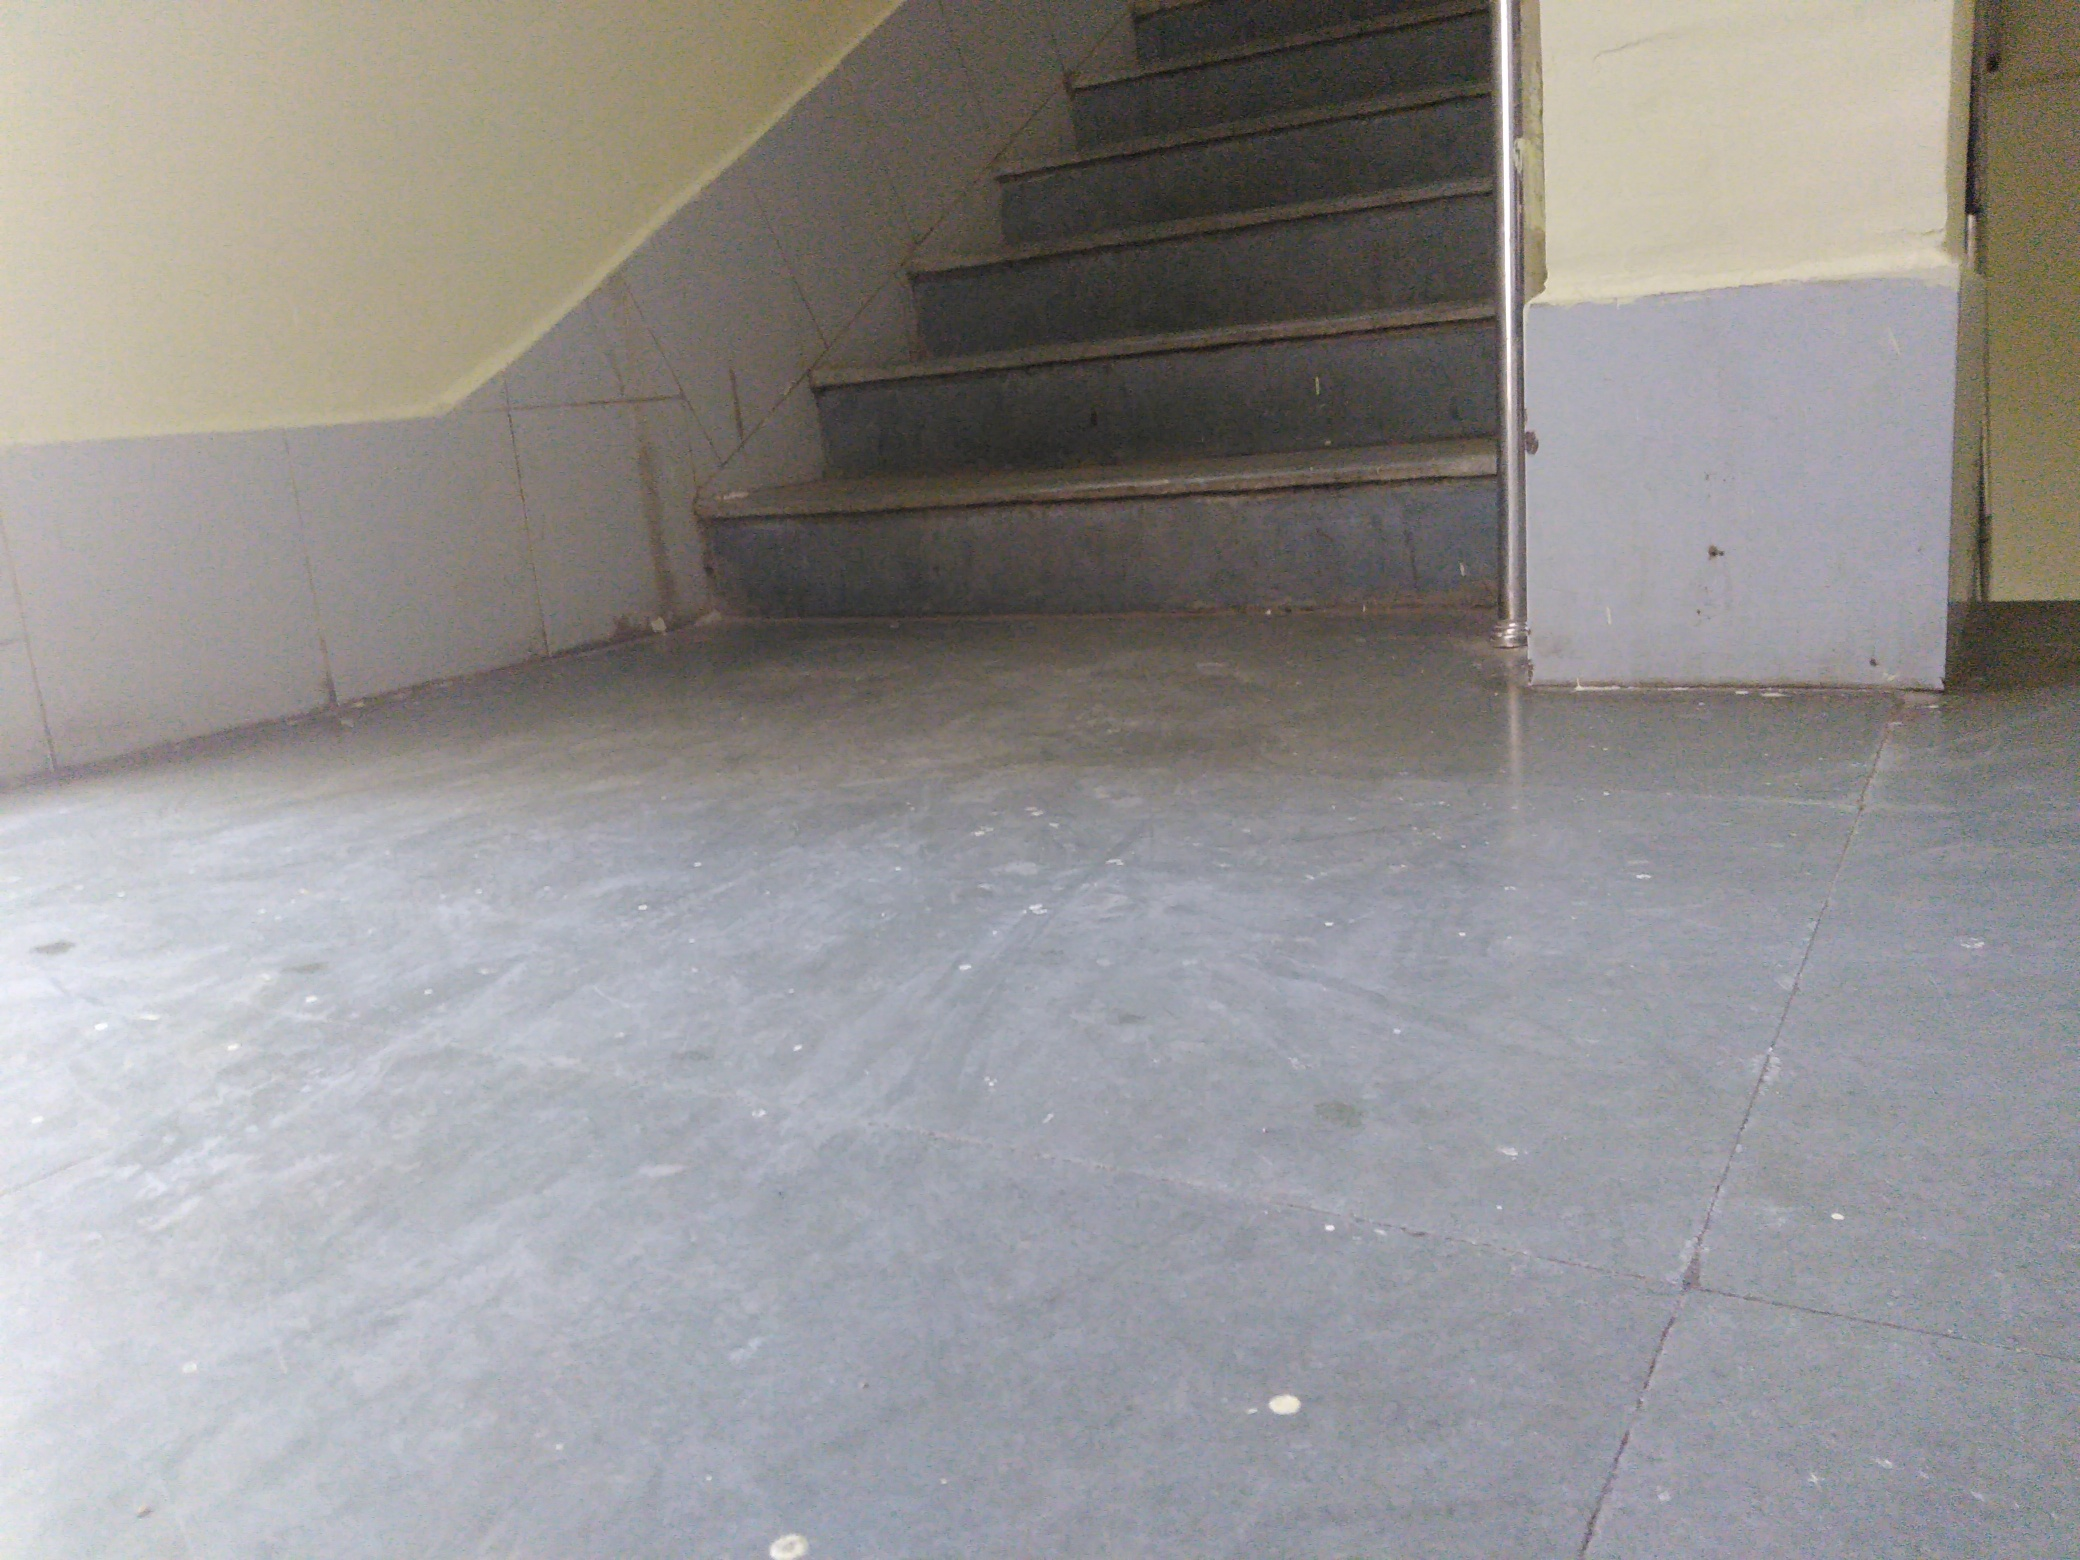stairs_up: (645, 5, 1495, 644)
